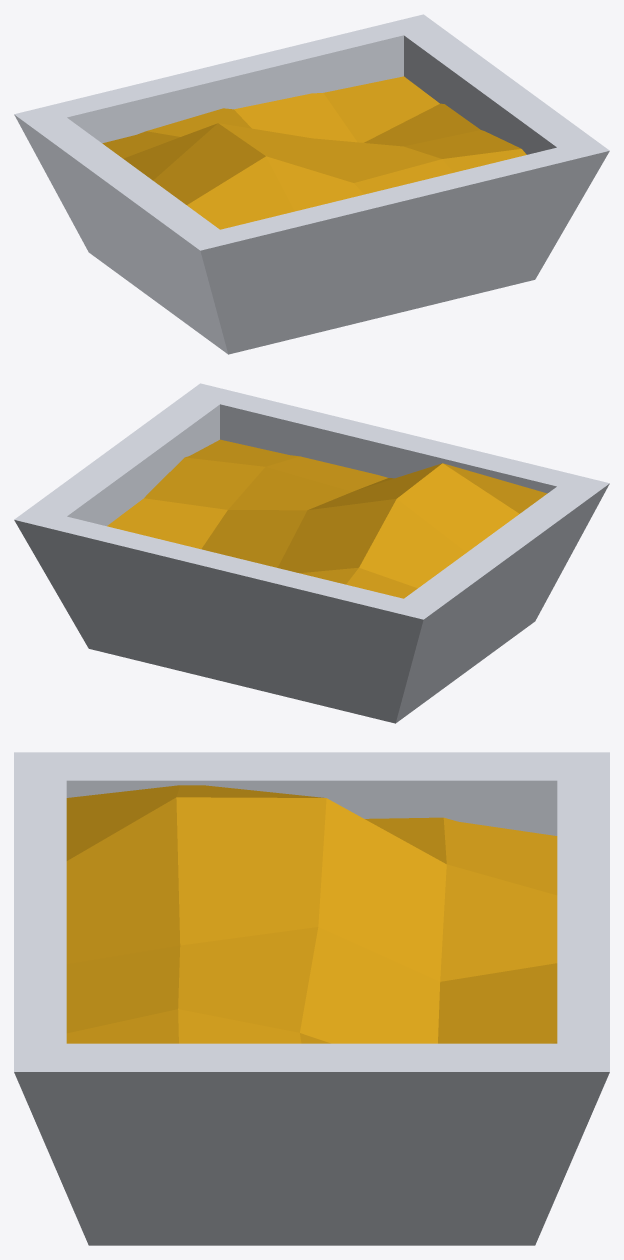
Rendered from sauce mustard.fbx.
3 renders of one model, top to bottom at view 1: azimuth 30°, elevation 25°; view 2: azimuth 150°, elevation 25°; view 3: azimuth 270°, elevation 25°, orthographic. The views are drawn at different scales.
Visible parts, largest first — view 1: Cube; view 2: Cube; view 3: Cube.
Part boxes in pixels (box(x1,y1,x2,y2)): Cube: box(14, 14, 609, 354); Cube: box(14, 383, 609, 723); Cube: box(14, 752, 609, 1245).
Size of the model in its own units: 0.1104 by 0.0418 by 0.087.
2 materials, 2 textured.
